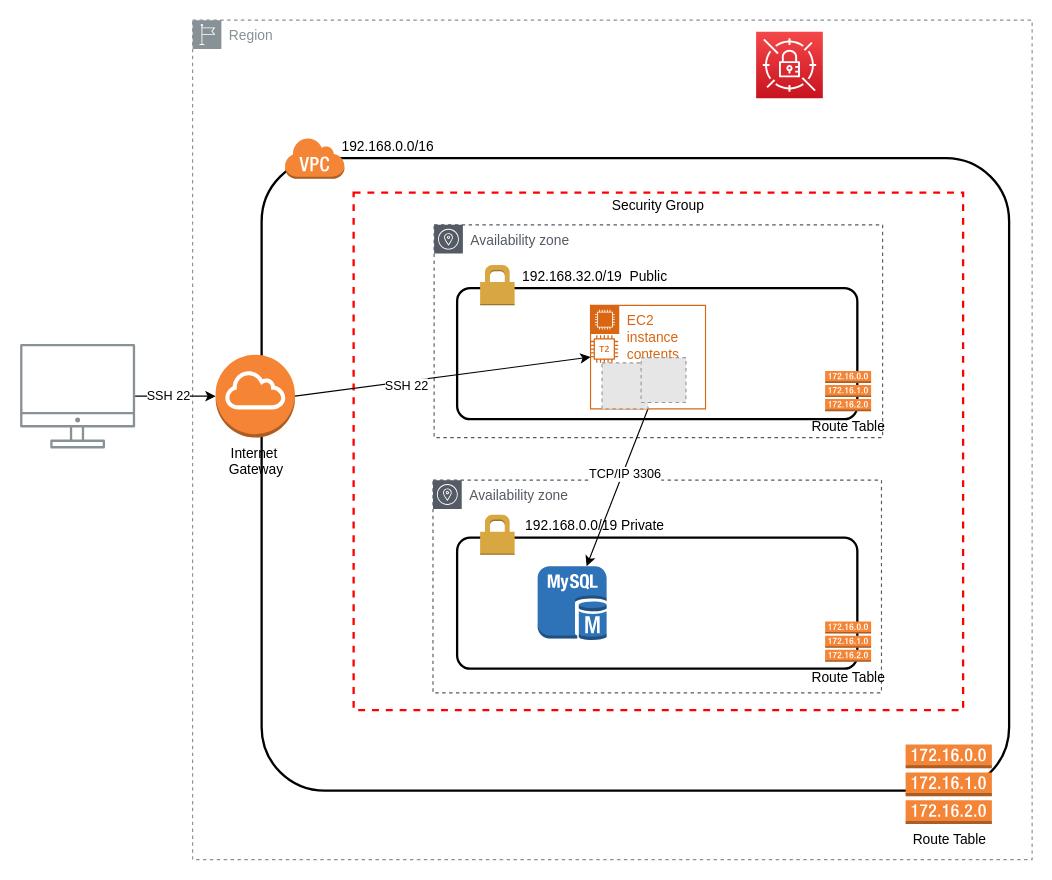
The diagram is 1052 pixels wide and 880 high, and some of its shapes have lost their labels. Grey dashed boxes stand in for pictures. Here are the shapes that lost their labels. From the top down, the centre of each, then its label:
point 789,64: Secrets Manager DB Connection String
point 77,395: Client
